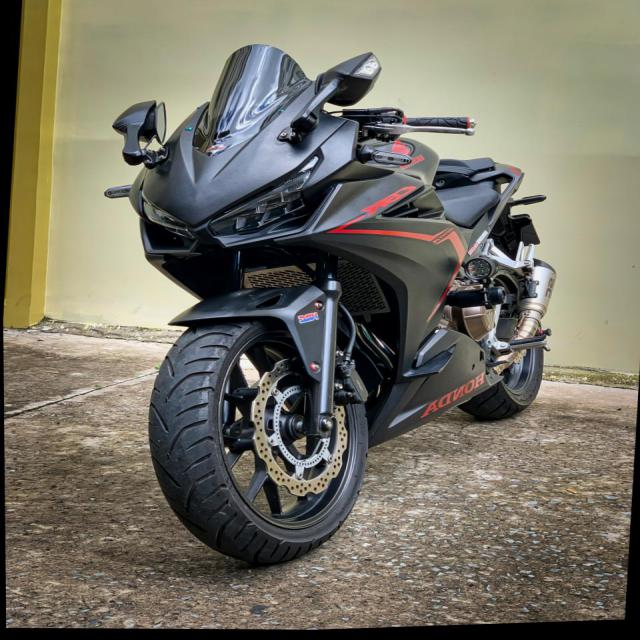CBR500R: (70, 30, 577, 593)
